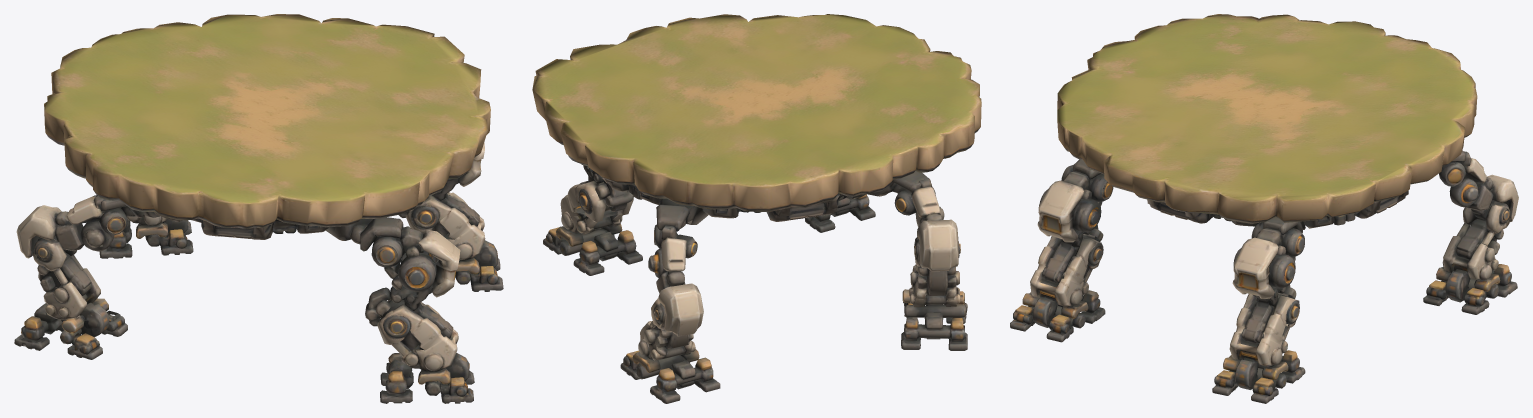
The model's file is 草地圆桌3d模型_副本.fbx.
The picture shows the model from 3 angles, left to right: view 1: azimuth 30°, elevation 25°; view 2: azimuth 150°, elevation 25°; view 3: azimuth 270°, elevation 25°; orthographic projection. The views are drawn at different scales.
Parts seen in each view (by area): view 1: c97f3891_39bf_4773_a8f4_6382fd4ec892; view 2: c97f3891_39bf_4773_a8f4_6382fd4ec892; view 3: c97f3891_39bf_4773_a8f4_6382fd4ec892.
Part boxes in pixels (x1,y1,x2,y2): c97f3891_39bf_4773_a8f4_6382fd4ec892: [14, 14, 503, 403]; c97f3891_39bf_4773_a8f4_6382fd4ec892: [532, 14, 981, 403]; c97f3891_39bf_4773_a8f4_6382fd4ec892: [1010, 14, 1518, 403].
Bounding box in the file's own units: 0.9751 × 0.4419 × 0.9995.
1 material, 1 textured.
